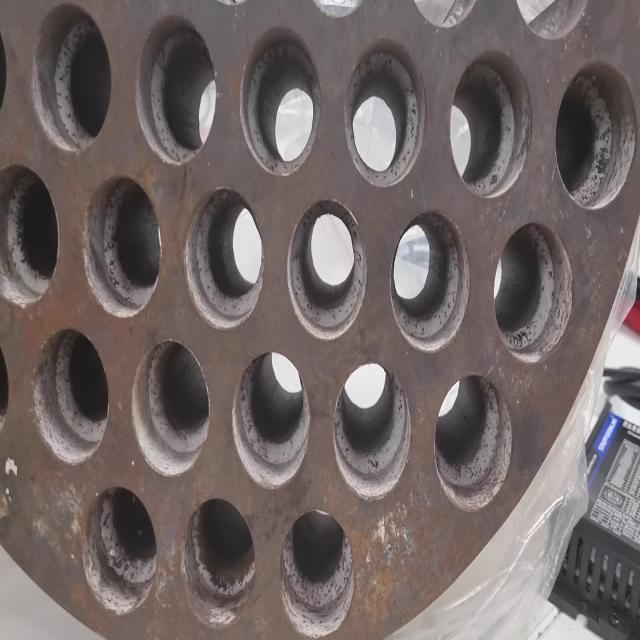Hole: (554, 60, 638, 210), (135, 14, 217, 166), (448, 50, 532, 198), (29, 3, 111, 154), (344, 38, 426, 188), (240, 27, 320, 177), (183, 186, 264, 330), (390, 208, 470, 352), (82, 175, 162, 318), (493, 221, 573, 363), (286, 198, 366, 340), (232, 350, 311, 490), (434, 372, 513, 512), (333, 362, 410, 502), (132, 339, 210, 477), (31, 326, 108, 465), (180, 496, 256, 628), (82, 485, 158, 616), (280, 507, 354, 639), (1, 163, 59, 309)
